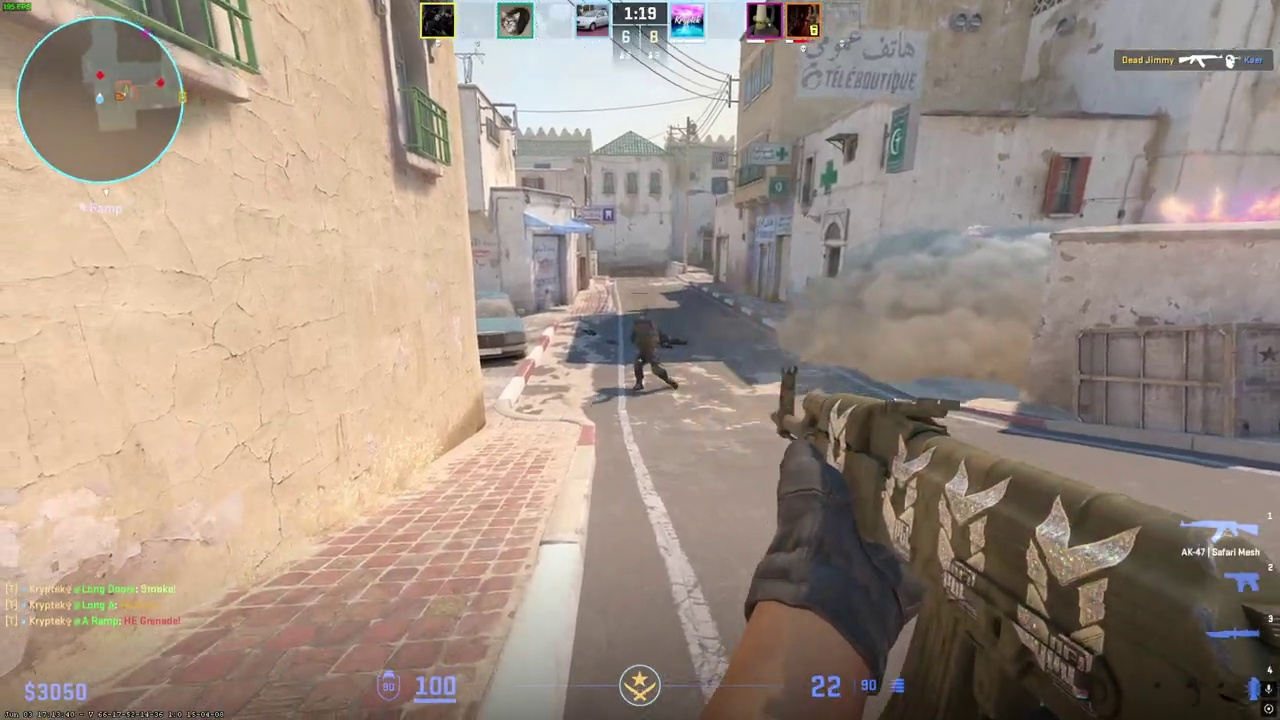CT: (630, 316, 670, 390)
